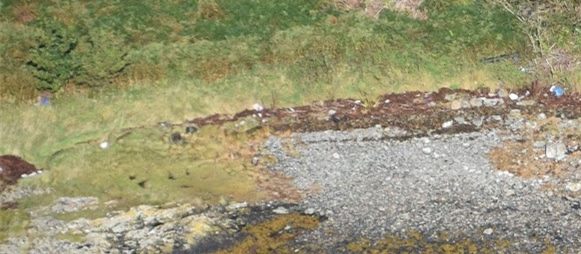white_in_green: (77, 117, 130, 169), (531, 68, 581, 115)
